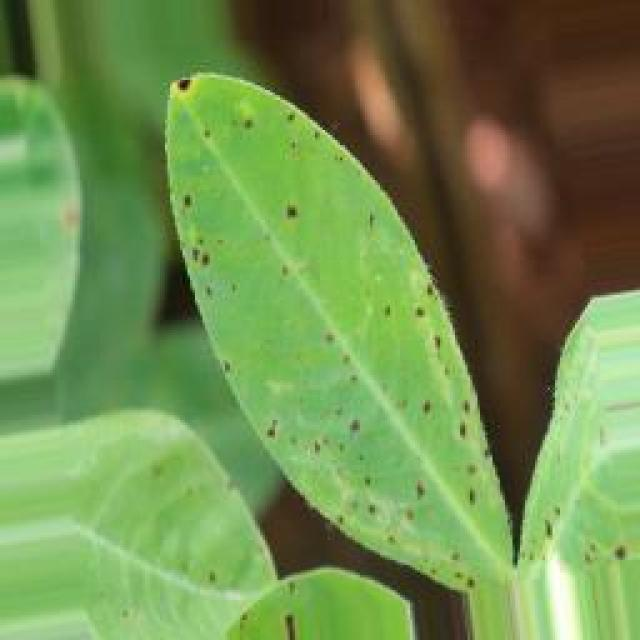Sigatoka: (380, 274, 495, 484), (320, 470, 482, 578), (519, 508, 640, 596), (235, 104, 345, 167), (213, 580, 318, 640), (173, 190, 222, 312), (306, 396, 369, 476), (163, 61, 237, 121), (343, 204, 402, 268), (243, 396, 288, 442), (273, 185, 307, 244), (216, 332, 249, 385)
